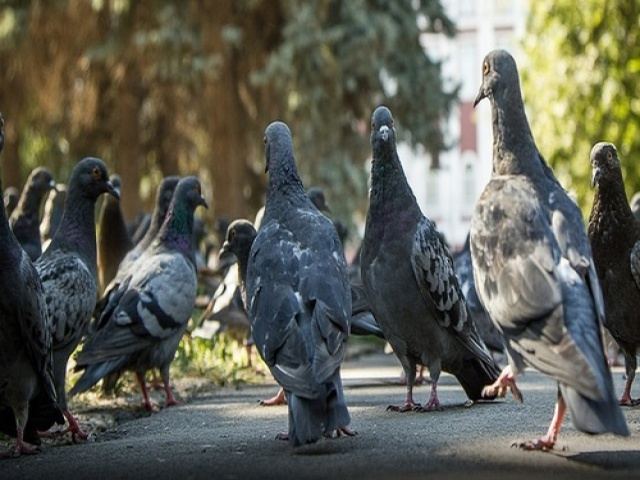Pigeon: (356, 98, 491, 417)
